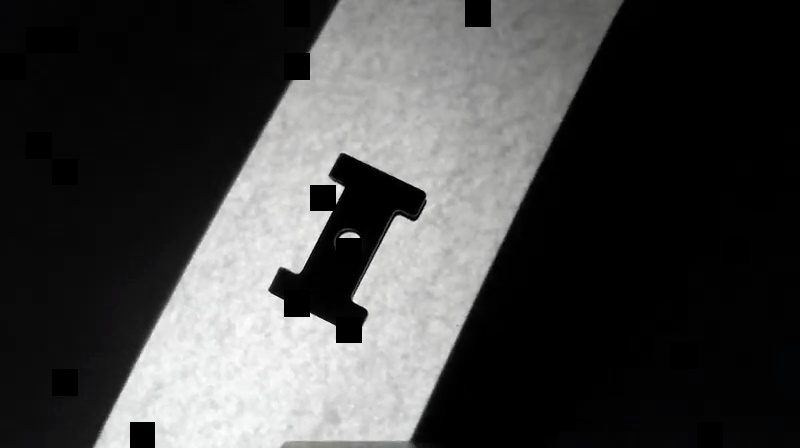O002: (265, 149, 428, 338)
